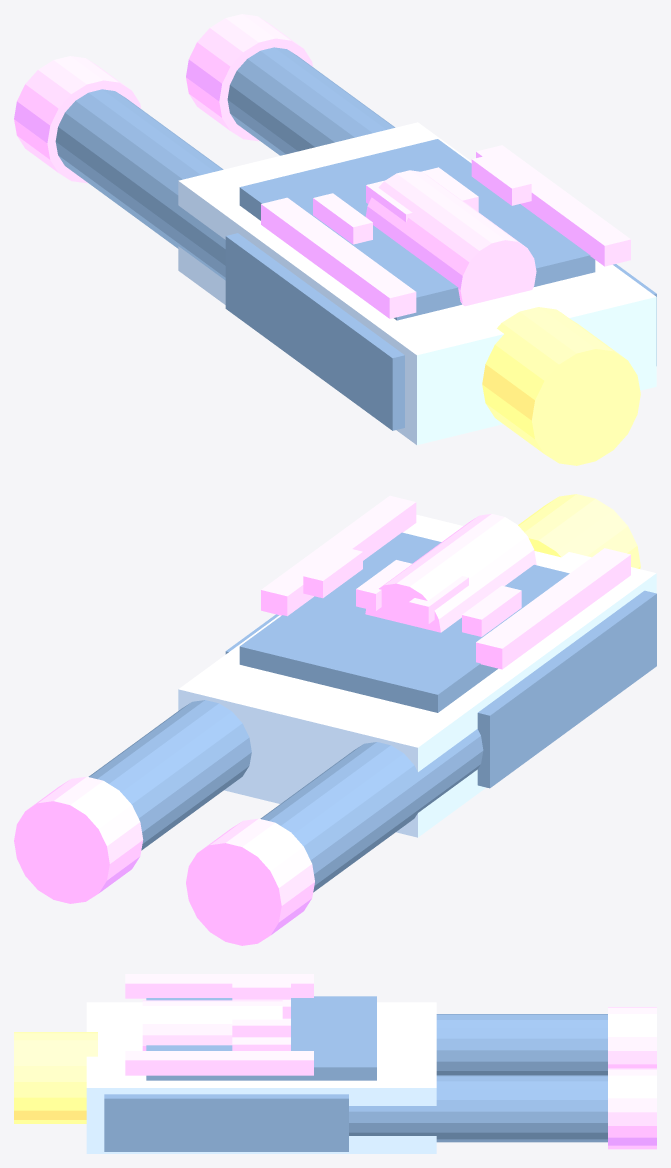
Rendered from arc-4.glb.
The picture shows the model from 3 angles, top to bottom: view 1: azimuth 30°, elevation 25°; view 2: azimuth 150°, elevation 25°; view 3: azimuth 270°, elevation 25°; orthographic projection. The views are drawn at different scales.
Visible parts, largest first — view 1: reactor_housing, power_cap, top_armor, rail_-1, barrel_-1, reactor_core, barrel_1, energy_-1, muzzle_-1, muzzle_1, energy_1, charge_3 (+3 smaller); view 2: reactor_housing, top_armor, rail_-1, barrel_-1, barrel_1, muzzle_1, muzzle_-1, reactor_core, energy_-1, power_cap, energy_1, charge_0 (+3 smaller); view 3: reactor_housing, barrel_1, rail_1, barrel_-1, top_armor, power_cap, reactor_core, energy_1, muzzle_1, energy_-1, muzzle_-1, charge_0 (+3 smaller).
Part boxes in pixels (box(x1,y1,x2,y2)): reactor_housing: box(178, 122, 656, 444); power_cap: box(482, 307, 640, 465); top_armor: box(239, 139, 595, 320); rail_-1: box(225, 233, 404, 430); barrel_-1: box(55, 89, 225, 280); reactor_core: box(365, 170, 536, 306); barrel_1: box(227, 47, 395, 155); energy_-1: box(261, 197, 416, 318); muzzle_-1: box(14, 56, 141, 183); muzzle_1: box(186, 14, 312, 141); energy_1: box(476, 145, 630, 266); charge_3: box(471, 154, 531, 205); reactor_housing: box(178, 515, 656, 837); top_armor: box(239, 532, 569, 712); rail_-1: box(477, 590, 656, 788); barrel_-1: box(260, 729, 483, 892); barrel_1: box(88, 700, 251, 850); muzzle_1: box(14, 776, 143, 903); muzzle_-1: box(186, 818, 314, 945); reactor_core: box(365, 514, 536, 632); energy_-1: box(476, 548, 630, 669); power_cap: box(518, 494, 640, 568); energy_1: box(261, 495, 416, 616); charge_0: box(462, 585, 521, 636); reactor_housing: box(86, 1002, 436, 1153); barrel_1: box(349, 1075, 607, 1142); rail_1: box(104, 1094, 348, 1151); barrel_-1: box(436, 1014, 607, 1075); top_armor: box(146, 996, 376, 1080); power_cap: box(14, 1032, 97, 1123); reactor_core: box(142, 1000, 282, 1050); energy_1: box(125, 1051, 313, 1075); muzzle_1: box(608, 1068, 656, 1149); energy_-1: box(125, 974, 313, 998); muzzle_-1: box(608, 1007, 656, 1068); charge_0: box(232, 980, 290, 999).
Bounding box in the file's own units: 1.62 × 0.9115 × 4.6.
